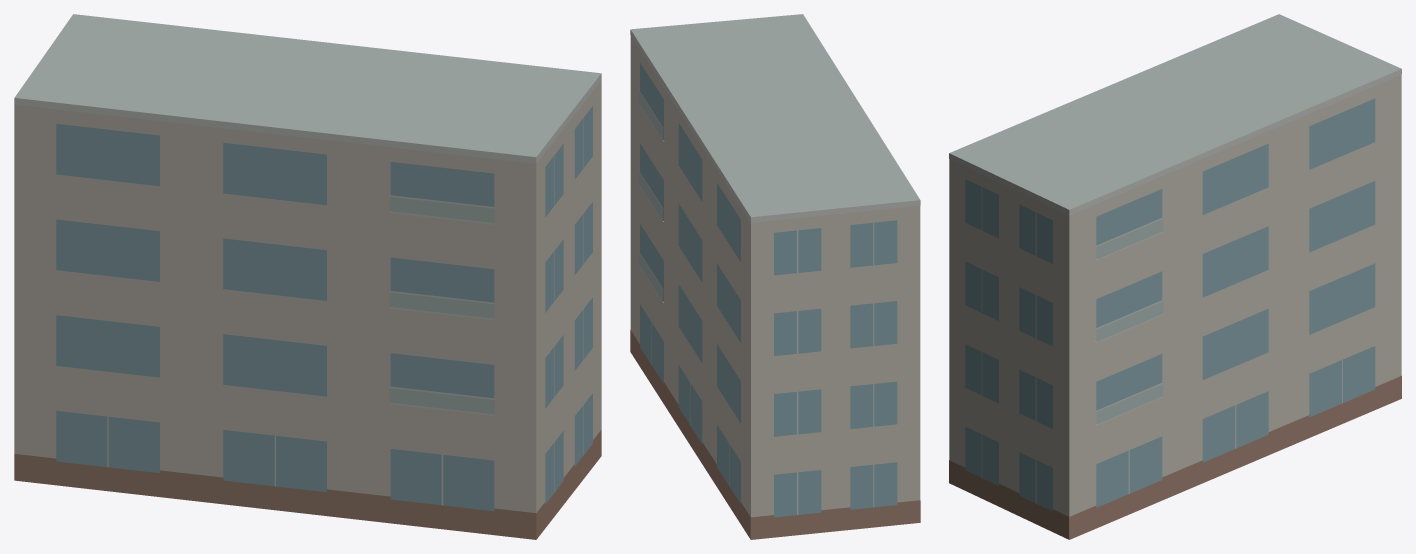
The model's file is survey-upis-32950644.glb.
3 views of the same model, side by side, from view 1: azimuth 30°, elevation 25°; view 2: azimuth 150°, elevation 25°; view 3: azimuth 270°, elevation 25° (orthographic). The views are drawn at different scales.
Parts seen in each view (by area): view 1: survey-upis-32950644.tmp; view 2: survey-upis-32950644.tmp; view 3: survey-upis-32950644.tmp.
Boxes of the visible parts, bbox=[...] form: survey-upis-32950644.tmp: bbox=[14, 14, 601, 539]; survey-upis-32950644.tmp: bbox=[630, 14, 920, 539]; survey-upis-32950644.tmp: bbox=[949, 14, 1401, 539].
Size of the model in its own units: 17.9 by 14.05 by 17.47.
